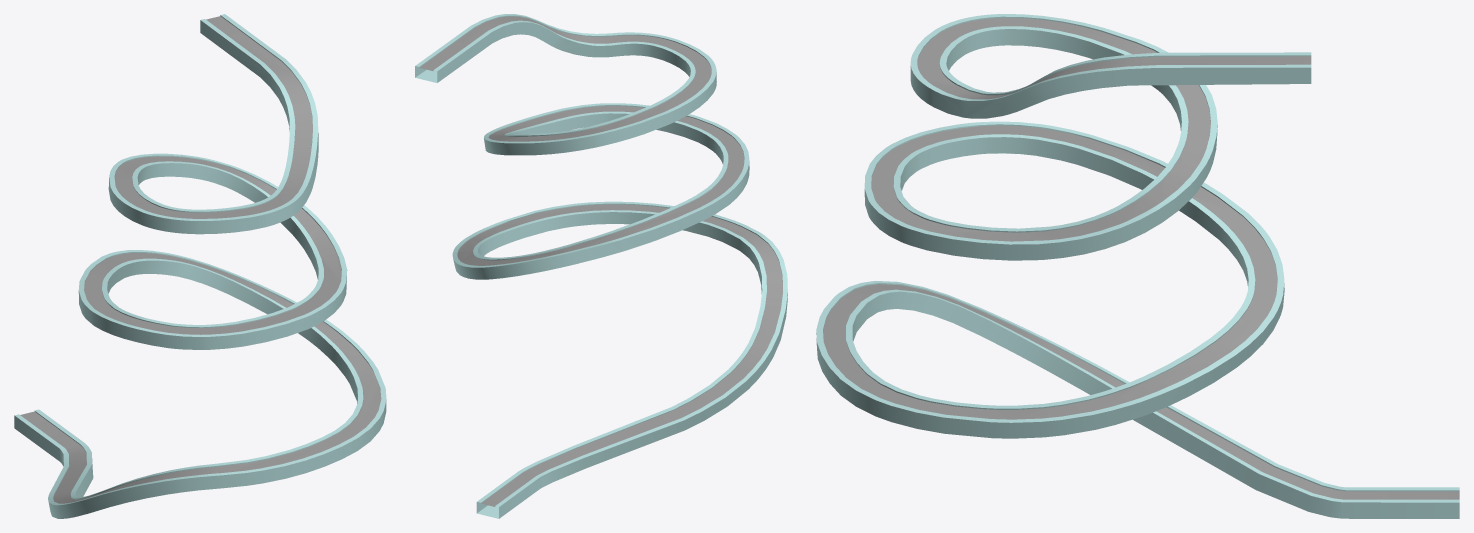
File: petliUp.fbx
3 views of the same model, side by side, from view 1: azimuth 30°, elevation 25°; view 2: azimuth 150°, elevation 25°; view 3: azimuth 270°, elevation 25° (orthographic). The views are drawn at different scales.
Parts seen in each view (by area): view 1: pteliUp; view 2: pteliUp; view 3: pteliUp.
Boxes of the visible parts, box(x1,y1,x2,y2) form: pteliUp: box(14, 14, 386, 518); pteliUp: box(415, 14, 787, 518); pteliUp: box(816, 14, 1459, 518).
Size of the model in its own units: 2529 by 3319 by 3654.
